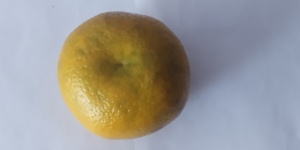BAD: (56, 11, 195, 141)
